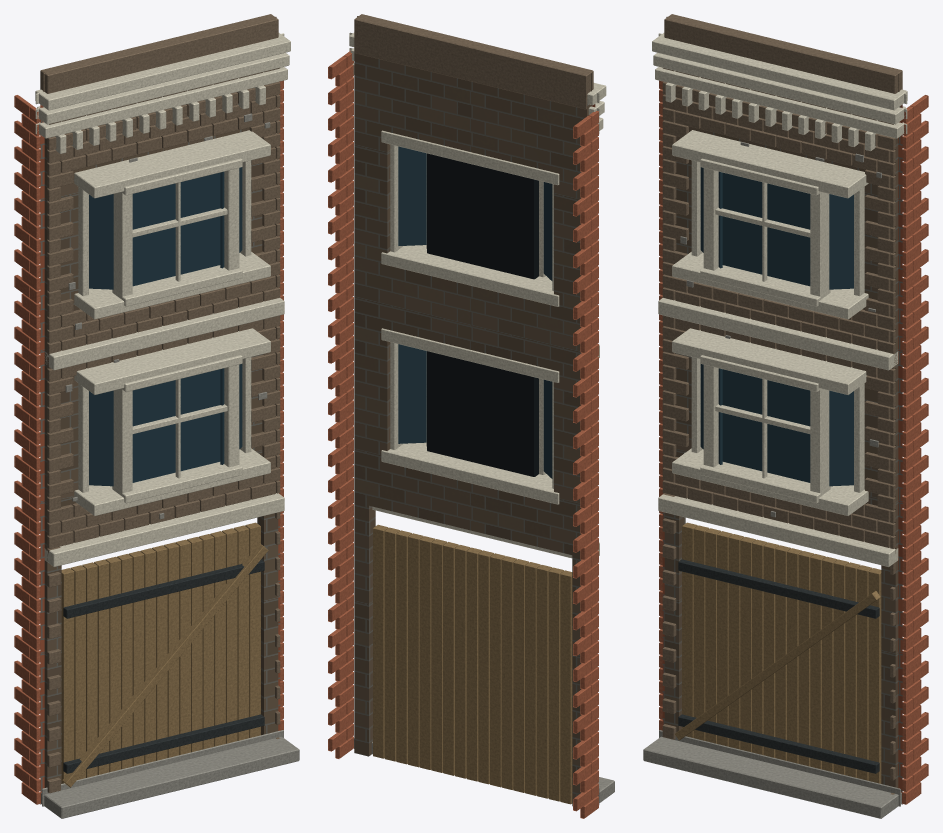
The model's file is VICT21_lod0.glb.
3 renders of one model, left to right at view 1: azimuth 30°, elevation 25°; view 2: azimuth 150°, elevation 25°; view 3: azimuth 330°, elevation 25°, orthographic.
Parts seen in each view (by area): view 1: VICT21_FRONT_LOD0; view 2: VICT21_FRONT_LOD0; view 3: VICT21_FRONT_LOD0.
Part boxes in pixels (left/top/right/bottom): VICT21_FRONT_LOD0: left=14, top=14, right=299, bottom=818; VICT21_FRONT_LOD0: left=328, top=14, right=614, bottom=818; VICT21_FRONT_LOD0: left=643, top=14, right=928, bottom=818.
Bounding box in the file's own units: 3.44 × 9.66 × 1.11.
15 materials, 13 textured.
